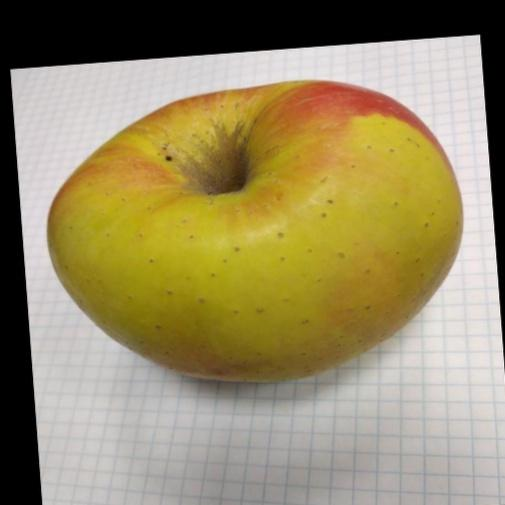green apple: (58, 81, 471, 396)
